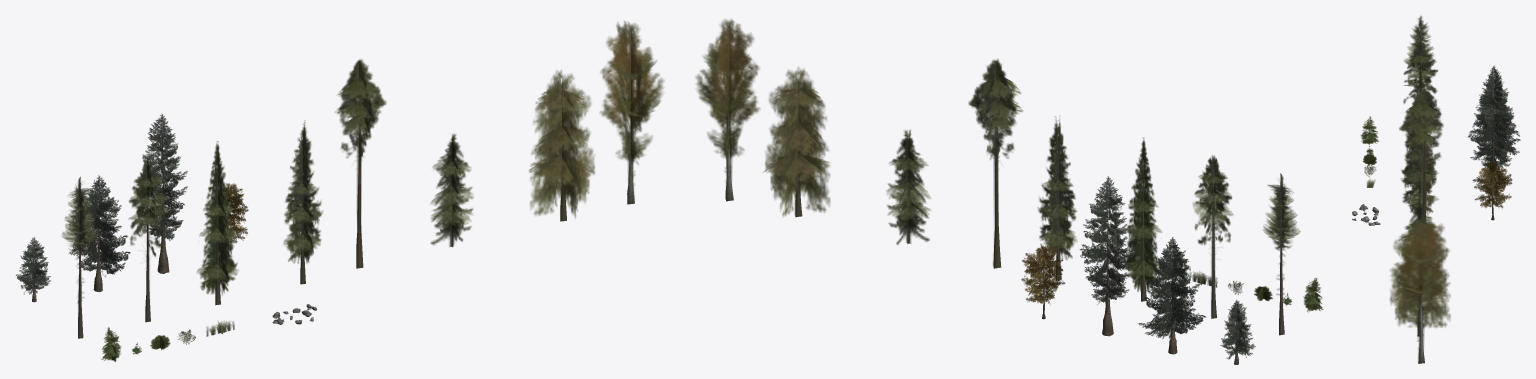
The model's file is p_trees.glb.
3 views of the same model, side by side, from view 1: azimuth 30°, elevation 25°; view 2: azimuth 150°, elevation 25°; view 3: azimuth 270°, elevation 25° (orthographic). The views are drawn at different scales.
Parts seen in each view (by area): view 1: Background_Tree_Atlas.004, Background_Tree_Atlas.001, Background_Tree_Atlas, Background_Tree_Atlas.005, Background_Tree_Atlas.003, Background_Tree_Atlas.002, Tree_Branches_01, Tree_Branches_01.002, Background_Tree_Atlas.007, Background_Tree_Atlas.006, Tree_Branches_01.001, Tree_Branches_02; view 2: Background_Tree_Atlas.004, Background_Tree_Atlas.001, Tree_Branches_01, Background_Tree_Atlas.005, Tree_Branches_01.002, Background_Tree_Atlas.003, Background_Tree_Atlas, Background_Tree_Atlas.002, Background_Tree_Atlas.007, Background_Tree_Atlas.006, Tree_Branches_02, Tree_Branches_01.001 (+1 smaller); view 3: Background_Tree_Atlas.001, Background_Tree_Atlas.004, Tree_Branches_01, Background_Tree_Atlas.005, Background_Tree_Atlas.003, Tree_Branches_01.002, Tree_Branches_02, Background_Tree_Atlas.007, Background_Tree_Atlas.006, Background_Tree_Atlas, Background_Tree_Atlas.002, Background_Tree_Atlas.009 (+1 smaller).
Part boxes in pixels (left/top/right/bottom): Background_Tree_Atlas.004: left=529, top=70, right=595, bottom=221; Background_Tree_Atlas.001: left=600, top=20, right=664, bottom=204; Background_Tree_Atlas: left=197, top=141, right=238, bottom=305; Background_Tree_Atlas.005: left=334, top=59, right=386, bottom=268; Background_Tree_Atlas.003: left=283, top=120, right=322, bottom=284; Background_Tree_Atlas.002: left=430, top=133, right=473, bottom=247; Tree_Branches_01: left=142, top=113, right=187, bottom=240; Tree_Branches_01.002: left=68, top=175, right=130, bottom=276; Background_Tree_Atlas.007: left=128, top=159, right=168, bottom=322; Background_Tree_Atlas.006: left=61, top=176, right=98, bottom=338; Tree_Branches_01.001: left=15, top=237, right=50, bottom=294; Tree_Branches_02: left=204, top=183, right=248, bottom=243; Background_Tree_Atlas.004: left=763, top=67, right=830, bottom=217; Background_Tree_Atlas.001: left=695, top=19, right=760, bottom=201; Tree_Branches_01: left=1079, top=176, right=1135, bottom=304; Background_Tree_Atlas.005: left=968, top=59, right=1023, bottom=268; Tree_Branches_01.002: left=1138, top=237, right=1206, bottom=339; Background_Tree_Atlas.003: left=1037, top=115, right=1077, bottom=280; Background_Tree_Atlas: left=1123, top=137, right=1162, bottom=301; Background_Tree_Atlas.002: left=886, top=130, right=930, bottom=244; Background_Tree_Atlas.007: left=1192, top=155, right=1233, bottom=318; Background_Tree_Atlas.006: left=1262, top=173, right=1300, bottom=335; Tree_Branches_02: left=1021, top=243, right=1065, bottom=304; Tree_Branches_01.001: left=1220, top=300, right=1255, bottom=359; Background_Tree_Atlas.001: left=1390, top=217, right=1450, bottom=363; Background_Tree_Atlas.004: left=1389, top=215, right=1450, bottom=336; Tree_Branches_01: left=1475, top=65, right=1512, bottom=167; Background_Tree_Atlas.005: left=1399, top=88, right=1443, bottom=218; Background_Tree_Atlas.003: left=1401, top=132, right=1438, bottom=215; Tree_Branches_01.002: left=1468, top=81, right=1520, bottom=161; Tree_Branches_02: left=1472, top=160, right=1512, bottom=208; Background_Tree_Atlas.007: left=1403, top=40, right=1437, bottom=113; Background_Tree_Atlas.006: left=1404, top=15, right=1436, bottom=75; Background_Tree_Atlas: left=1401, top=69, right=1438, bottom=192; Background_Tree_Atlas.002: left=1404, top=200, right=1436, bottom=263; Background_Tree_Atlas.009: left=1360, top=116, right=1378, bottom=144.
Bounding box in the file's own units: 101 × 33.75 × 30.38.
Materials: 6 (6 with a texture image).
